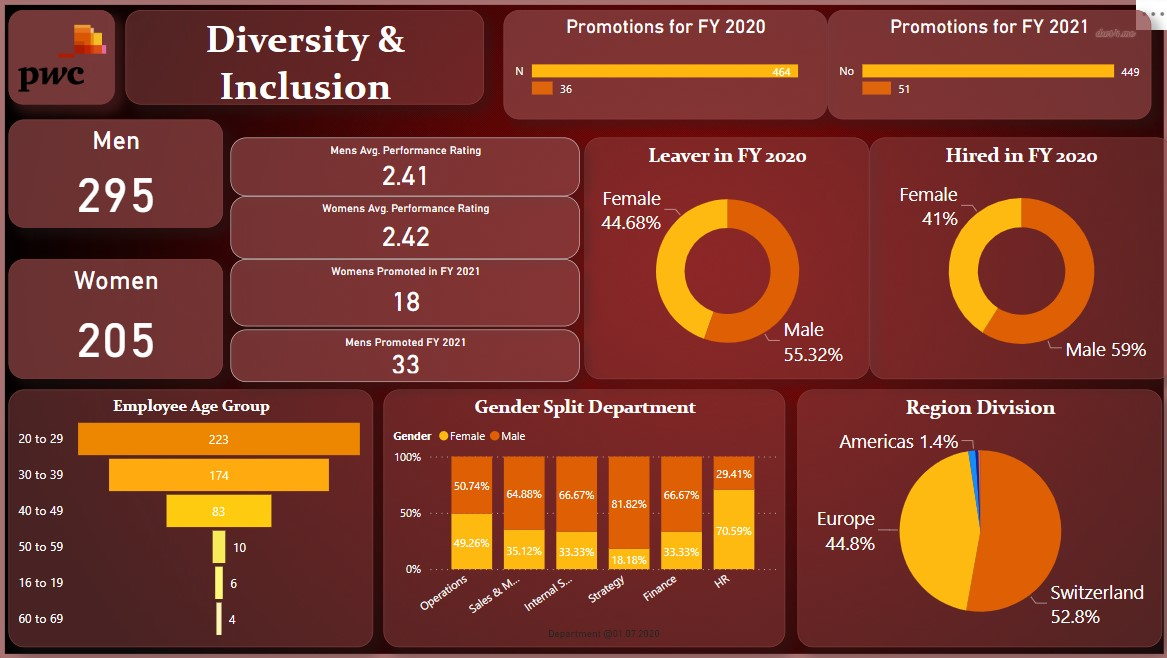

This screenshot's page, from the dashboard's own definition file:
{"tool":"powerbi","page":{"name":"Diversity & Inclusion","canvas":[1280,720],"ordinal":2},"visuals":[{"type":"image","box":[9.7,0,1270.1,720],"z":0},{"type":"image","box":[24.3,16.2,114.9,101.9],"z":1000},{"type":"textbox","title":"Diversity & Inclusion","box":[150.5,16.2,386.7,101.9],"z":2000},{"type":"card","title":"Men","fields":{"Values":["CountNonNull(Pharma Group AG.Gender)"]},"box":[24.3,134.3,231.4,116.5],"z":3000},{"type":"card","title":"Women","fields":{"Values":["CountNonNull(Pharma Group AG.Gender)"]},"box":[24.3,284.8,231.4,129.4],"z":4000},{"type":"barChart","title":"Promotions for FY 2020","fields":{"Category":["Pharma Group AG.Promotion in FY20?"],"Y":["CountNonNull(Pharma Group AG.Promotion in FY20?)"]},"box":[558.2,16.2,349.5,118.1],"z":5000},{"type":"barChart","title":"Promotions for FY 2021","fields":{"Category":["Pharma Group AG.Promotion in FY21?"],"Y":["CountNonNull(Pharma Group AG.Promotion in FY21?)"]},"box":[907.7,16.2,349.5,118.1],"z":6000},{"type":"funnel","title":"Employee Age Group","fields":{"Category":["Pharma Group AG.Age group"],"Y":["CountNonNull(Pharma Group AG.Age group)"]},"box":[24.3,425.5,393.2,278.3],"z":7000},{"type":"hundredPercentStackedColumnChart","title":"Gender Split Department","fields":{"Category":["Pharma Group AG.Department @01.07.2020"],"Y":["CountNonNull(Pharma Group AG.Gender)"],"Series":["Pharma Group AG.Gender"]},"box":[428.8,425.5,433.6,278.3],"z":8000},{"type":"pieChart","title":"Region Division","fields":{"Y":["CountNonNull(Pharma Group AG.Region group: nationality 1)"],"Category":["Pharma Group AG.Region group: nationality 1"]},"box":[875.3,425.5,393.2,278.3],"z":9000},{"type":"donutChart","title":"Leaver in FY 2020","fields":{"Y":["CountNonNull(Pharma Group AG.Leaver FY)"],"Category":["Pharma Group AG.Gender"]},"box":[645.6,153.7,307.4,260.5],"z":10000},{"type":"donutChart","title":"Hired in FY 2020","fields":{"Y":["CountNonNull(Pharma Group AG.New hire FY20?)"],"Category":["Pharma Group AG.Gender"]},"box":[953,153.7,326.8,260.5],"z":10003},{"type":"card","title":"Mens Avg. Performance Rating","fields":{"Values":["Avg(Pharma Group AG.FY20 Performance Rating)"]},"box":[263.7,153.7,377,63.1],"z":10004},{"type":"card","title":"Womens Avg. Performance Rating","fields":{"Values":["Avg(Pharma Group AG.FY20 Performance Rating)"]},"box":[263.7,216.8,377,68],"z":10005},{"type":"card","title":"Womens Promoted in FY 2021","fields":{"Values":["CountNonNull(Pharma Group AG.Promotion in FY21?)"]},"box":[263.7,284.8,377,72.8],"z":10006},{"type":"card","title":"Mens Promoted FY 2021","fields":{"Values":["CountNonNull(Pharma Group AG.Promotion in FY21?)"]},"box":[263.7,360.8,377,56.6],"z":10007}]}

Visuals, with their boxes in screenshot pixels (x1, y1, x2, y2), scaled from the page's 1280x720 canvas onto the 1167x658 screenshot:
image: {"x1": 9, "y1": 0, "x2": 1166, "y2": 657}
image: {"x1": 22, "y1": 15, "x2": 127, "y2": 108}
"Diversity & Inclusion" textbox: {"x1": 137, "y1": 15, "x2": 490, "y2": 108}
"Men" card: {"x1": 22, "y1": 123, "x2": 233, "y2": 229}
"Women" card: {"x1": 22, "y1": 260, "x2": 233, "y2": 379}
"Promotions for FY 2020" barChart: {"x1": 509, "y1": 15, "x2": 828, "y2": 123}
"Promotions for FY 2021" barChart: {"x1": 828, "y1": 15, "x2": 1146, "y2": 123}
"Employee Age Group" funnel: {"x1": 22, "y1": 389, "x2": 381, "y2": 643}
"Gender Split Department" hundredPercentStackedColumnChart: {"x1": 391, "y1": 389, "x2": 786, "y2": 643}
"Region Division" pieChart: {"x1": 798, "y1": 389, "x2": 1157, "y2": 643}
"Leaver in FY 2020" donutChart: {"x1": 589, "y1": 140, "x2": 869, "y2": 379}
"Hired in FY 2020" donutChart: {"x1": 869, "y1": 140, "x2": 1166, "y2": 379}
"Mens Avg. Performance Rating" card: {"x1": 240, "y1": 140, "x2": 584, "y2": 198}
"Womens Avg. Performance Rating" card: {"x1": 240, "y1": 198, "x2": 584, "y2": 260}
"Womens Promoted in FY 2021" card: {"x1": 240, "y1": 260, "x2": 584, "y2": 327}
"Mens Promoted FY 2021" card: {"x1": 240, "y1": 330, "x2": 584, "y2": 381}
